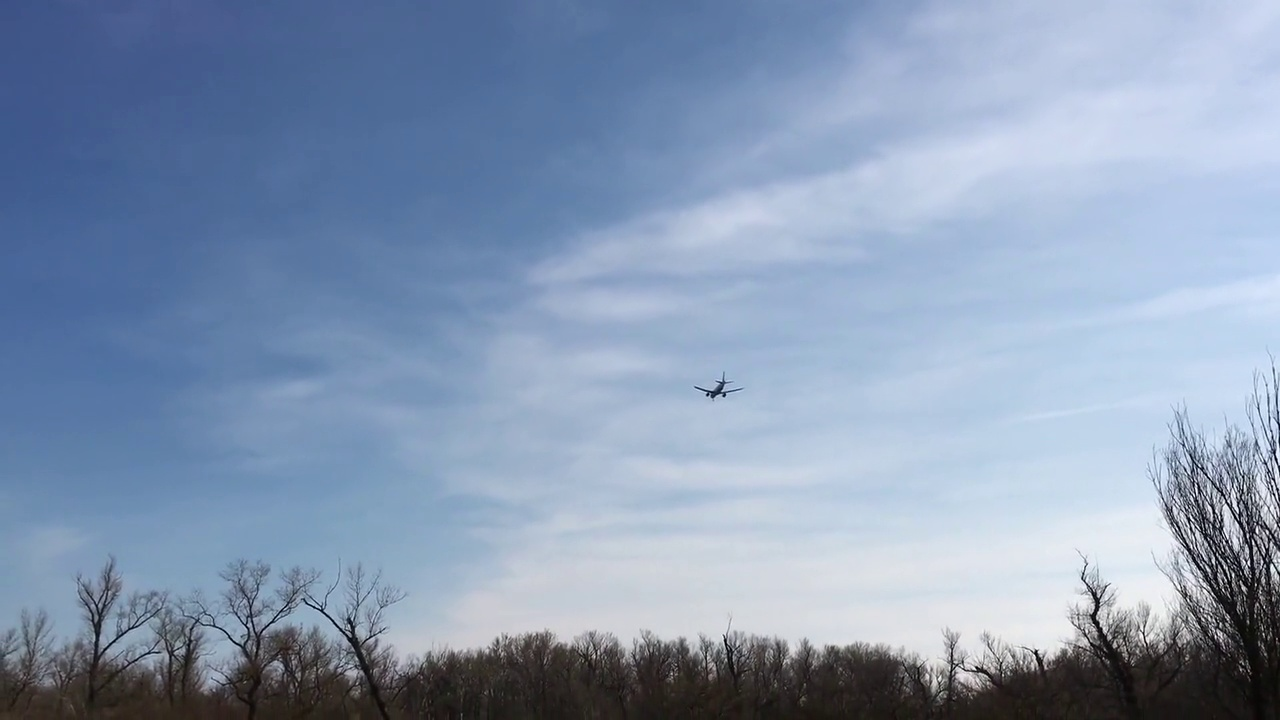plane: (694, 372, 744, 401)
